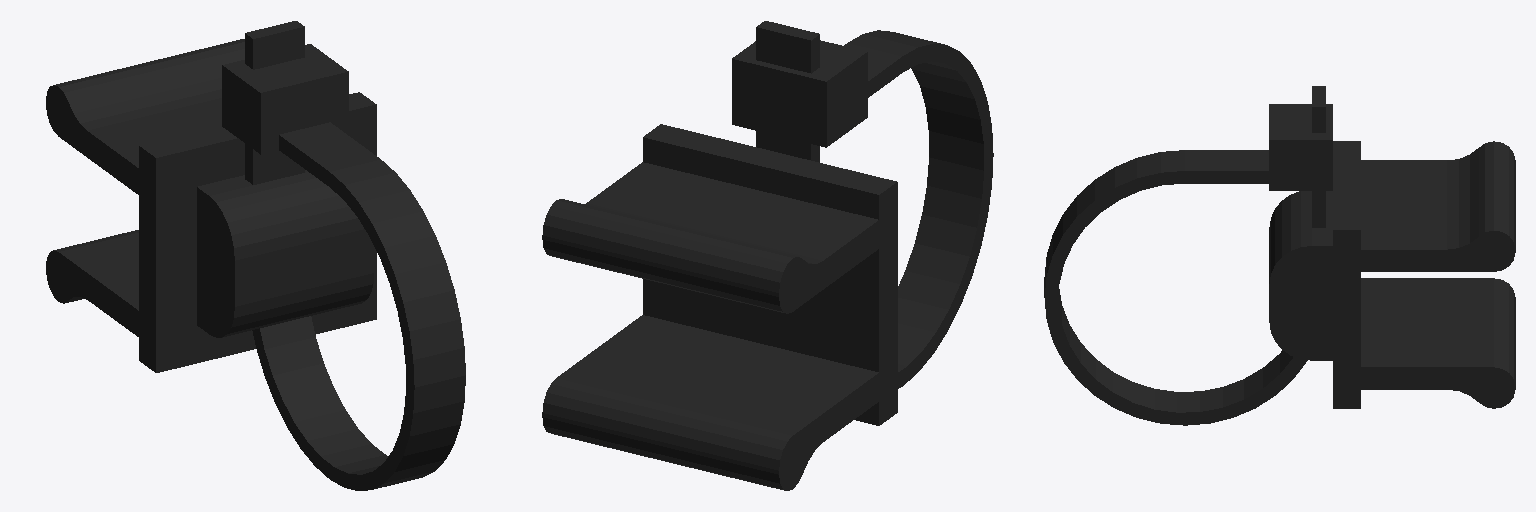
robot.urdf — Clip3:
<?xml version="1.0" encoding="utf-8"?>
<!-- This URDF was automatically created by SolidWorks to URDF Exporter! Originally created by [author] ([email redacted]) 
     Commit Version: 1.5.1-0-g916b5db  Build Version: 1.5.7152.31018
     For more information, please see http://wiki.ros.org/sw_urdf_exporter -->
<robot
  name="Clip3">
  <link
    name="Clip3">
    <inertial>
      <origin
        xyz="-2.2842E-21 0.0015493 0.00063024"
        rpy="0 0 0" />
      <mass
        value="0.001788" />
      <inertia
        ixx="1.3102E-07"
        ixy="1.6695E-24"
        ixz="2.9629E-24"
        iyy="7.2264E-08"
        iyz="-2.0793E-09"
        izz="1.0643E-07" />
    </inertial>
    <visual>
      <origin
        xyz="0 0 0"
        rpy="1.5707963267949 0 0" />
      <geometry>
        <mesh
          filename="package://Clip3/meshes/Clips_3.SLDPRT.STL" />
      </geometry>
      <material
        name="">
        <color
          rgba="0.2 0.2 0.2 1" />
        <texture
          filename="package://Clip3/textures/" />
      </material>
    </visual>
    <collision>
      <origin
        xyz="0 0 0"
        rpy="1.5707963267949 0 0" />
      <geometry>
        <mesh
          filename="package://Clip3/meshes/Clips_3.SLDPRT.STL" />
      </geometry>
    </collision>
  </link>
</robot>

--- What the picture shows (computed from the rendered views, not written in the file) ---
The picture shows the robot from 3 angles, left to right: view 1: azimuth 30°, elevation 25°; view 2: azimuth 150°, elevation 25°; view 3: azimuth 270°, elevation 25°; orthographic projection.
Robot: Clip3 — 1 links, 0 joints (none); root link Clip3; default pose: every joint at zero.
Links seen in each view (by area): view 1: Clip3; view 2: Clip3; view 3: Clip3.
Boxes of the visible links, x1,y1,x2,y2 form: Clip3: (46,21,465,490); Clip3: (542,21,993,490); Clip3: (1044,86,1515,425).
Bounding box of the posed robot: 0.015 × 0.0335 × 0.025 m (x, y, z).
Meshes: 1 distinct files referenced, 1 mesh visuals loaded (1 binary STL).